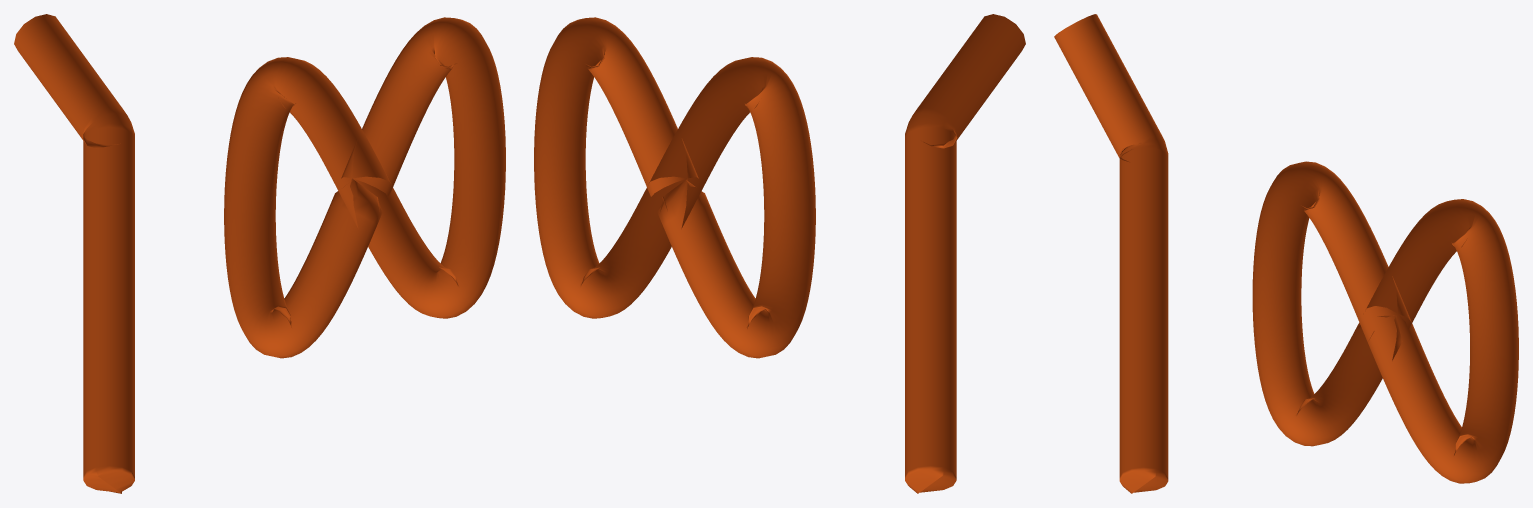
The picture shows the model from 3 angles, left to right: view 1: azimuth 30°, elevation 25°; view 2: azimuth 150°, elevation 25°; view 3: azimuth 330°, elevation 25°; orthographic projection. The views are drawn at different scales.
Visible parts, largest first — view 1: MorphMesh; view 2: MorphMesh; view 3: MorphMesh.
Part boxes in pixels (x1=…): MorphMesh: x1=14, y1=14, x2=505, y2=493; MorphMesh: x1=534, y1=14, x2=1025, y2=493; MorphMesh: x1=1054, y1=14, x2=1518, y2=493.
Size of the model in its own units: 2.27 by 2.16 by 0.21.
